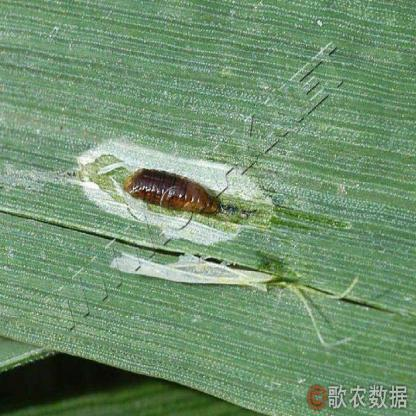whorl-maggot: (119, 154, 228, 227)
